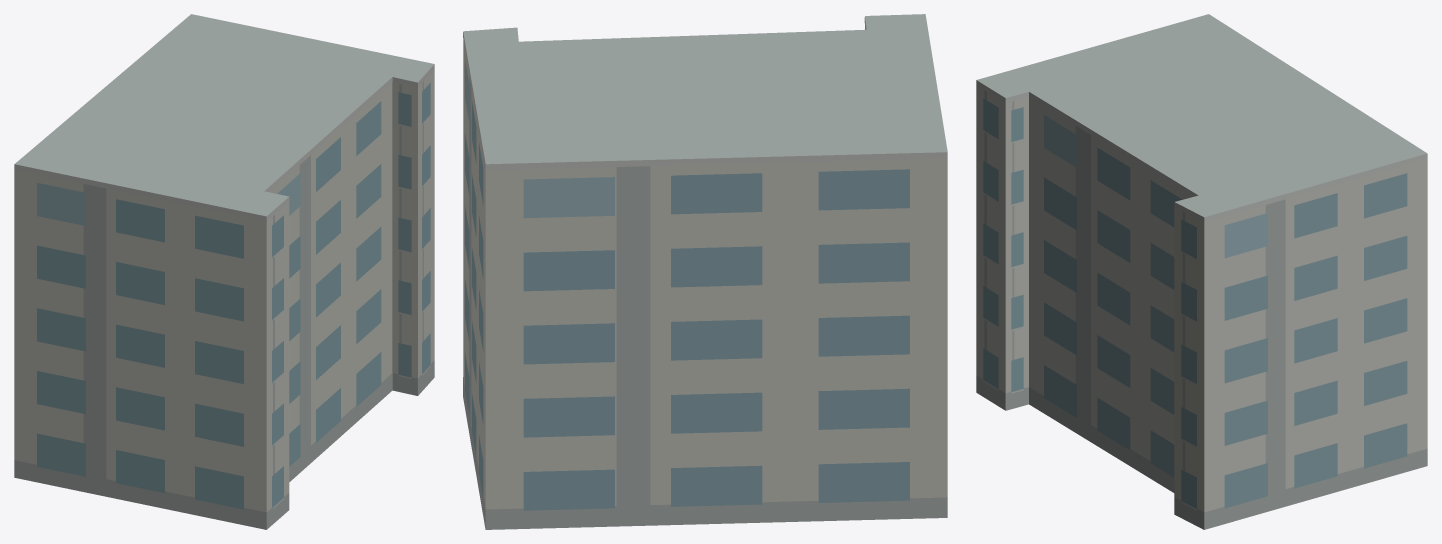
The model's file is survey-upis-32882645.glb.
3 views of the same model, side by side, from view 1: azimuth 30°, elevation 25°; view 2: azimuth 150°, elevation 25°; view 3: azimuth 270°, elevation 25° (orthographic). The views are drawn at different scales.
Parts seen in each view (by area): view 1: survey-upis-32882645.tmp; view 2: survey-upis-32882645.tmp; view 3: survey-upis-32882645.tmp.
Boxes of the visible parts, x1,y1,x2,y2 form: survey-upis-32882645.tmp: (14,14,434,529); survey-upis-32882645.tmp: (463,14,947,529); survey-upis-32882645.tmp: (976,14,1427,529).
Size of the model in its own units: 19.95 by 14.3 by 18.71.
